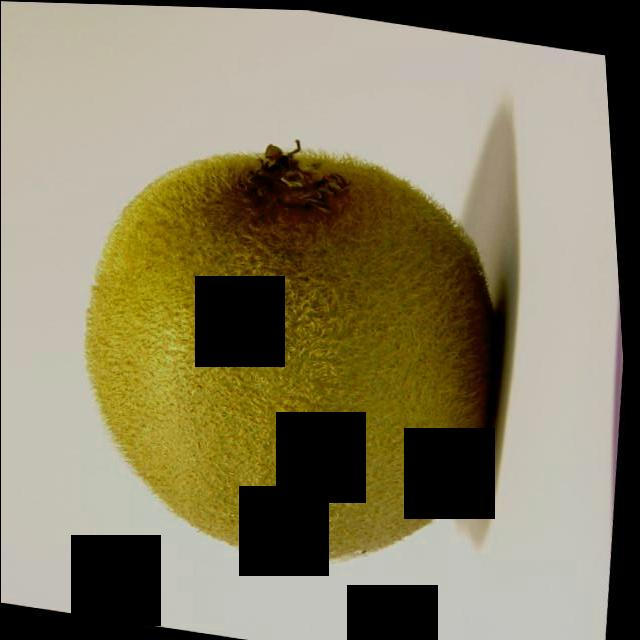kiwi: (51, 103, 535, 596)
